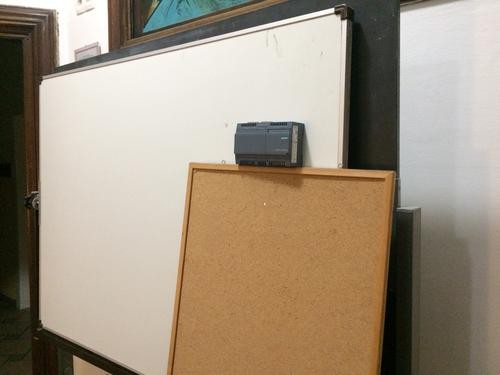iot2000: (234, 121, 306, 170)
